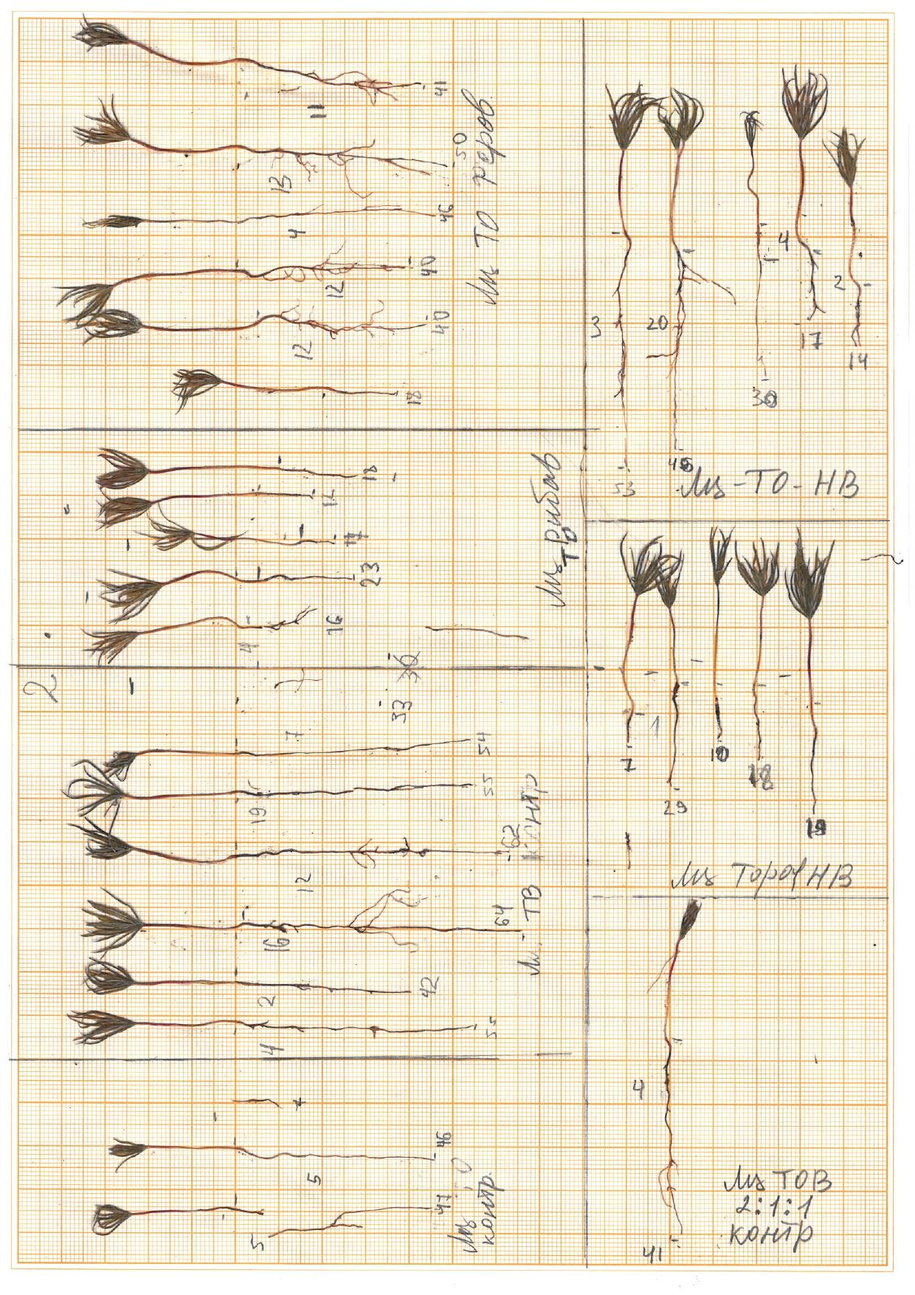root: (248, 887, 523, 954), (647, 254, 738, 449), (242, 139, 448, 201), (244, 836, 506, 870), (607, 237, 646, 458), (254, 58, 423, 108), (250, 239, 413, 285), (269, 303, 428, 345), (653, 1039, 686, 1238), (269, 1201, 430, 1239), (252, 1018, 476, 1039), (245, 737, 478, 757), (244, 977, 412, 1002), (245, 1145, 436, 1166), (263, 780, 475, 798), (753, 263, 775, 381), (802, 702, 821, 816), (298, 203, 438, 218), (664, 686, 684, 788), (254, 607, 320, 636), (804, 252, 829, 323), (261, 570, 357, 584), (749, 684, 766, 761), (851, 283, 870, 350), (329, 383, 403, 400), (285, 464, 359, 481), (710, 685, 725, 739), (277, 489, 318, 504), (621, 710, 637, 748), (302, 535, 339, 550)
seeding: (134, 499, 248, 557), (60, 755, 128, 835), (782, 526, 839, 619), (79, 884, 147, 958), (95, 564, 164, 626), (777, 63, 831, 141), (602, 81, 658, 150), (71, 91, 133, 147), (64, 815, 133, 864), (656, 88, 706, 151), (65, 1007, 139, 1048), (71, 11, 136, 57), (820, 126, 868, 188), (616, 532, 662, 596), (733, 536, 781, 596), (80, 953, 136, 1002), (167, 367, 224, 415), (93, 487, 152, 532), (78, 308, 144, 348), (96, 445, 149, 493), (50, 282, 112, 323), (81, 625, 141, 667), (702, 526, 737, 584), (88, 1200, 134, 1241), (108, 1135, 151, 1176), (653, 556, 686, 608), (675, 898, 704, 942), (737, 106, 765, 150), (81, 213, 145, 232), (103, 749, 138, 783)
stem: (133, 38, 252, 69), (110, 265, 249, 288), (143, 316, 270, 338), (133, 840, 239, 866), (618, 596, 642, 708), (666, 150, 692, 252), (141, 614, 253, 636), (795, 143, 818, 250), (743, 150, 764, 260), (224, 376, 328, 398), (844, 188, 868, 283), (154, 489, 275, 507), (135, 136, 241, 156), (146, 211, 297, 225), (662, 939, 683, 1038), (195, 528, 300, 547), (164, 569, 260, 589), (149, 464, 283, 478), (136, 744, 246, 761), (138, 1017, 252, 1033), (146, 917, 247, 935), (133, 1207, 265, 1220), (708, 585, 725, 682), (127, 790, 260, 802), (133, 977, 244, 991), (752, 597, 768, 683), (615, 150, 631, 236), (151, 1141, 241, 1155), (666, 609, 682, 685), (804, 620, 818, 702)
